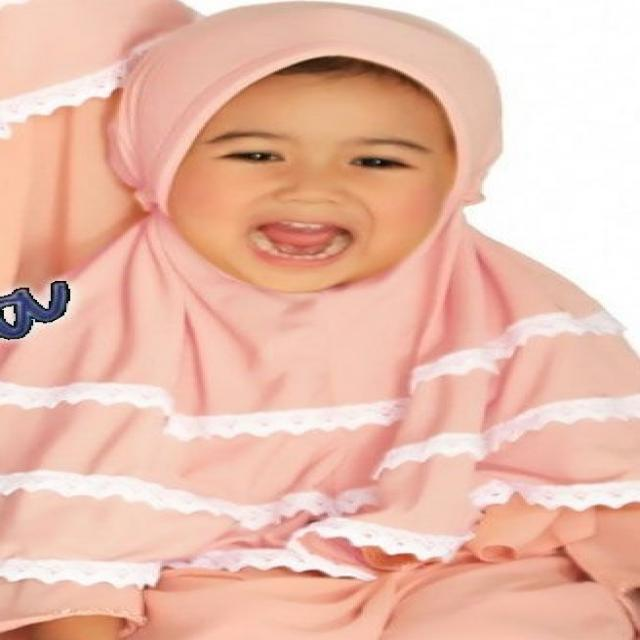head: (121, 1, 500, 296)
